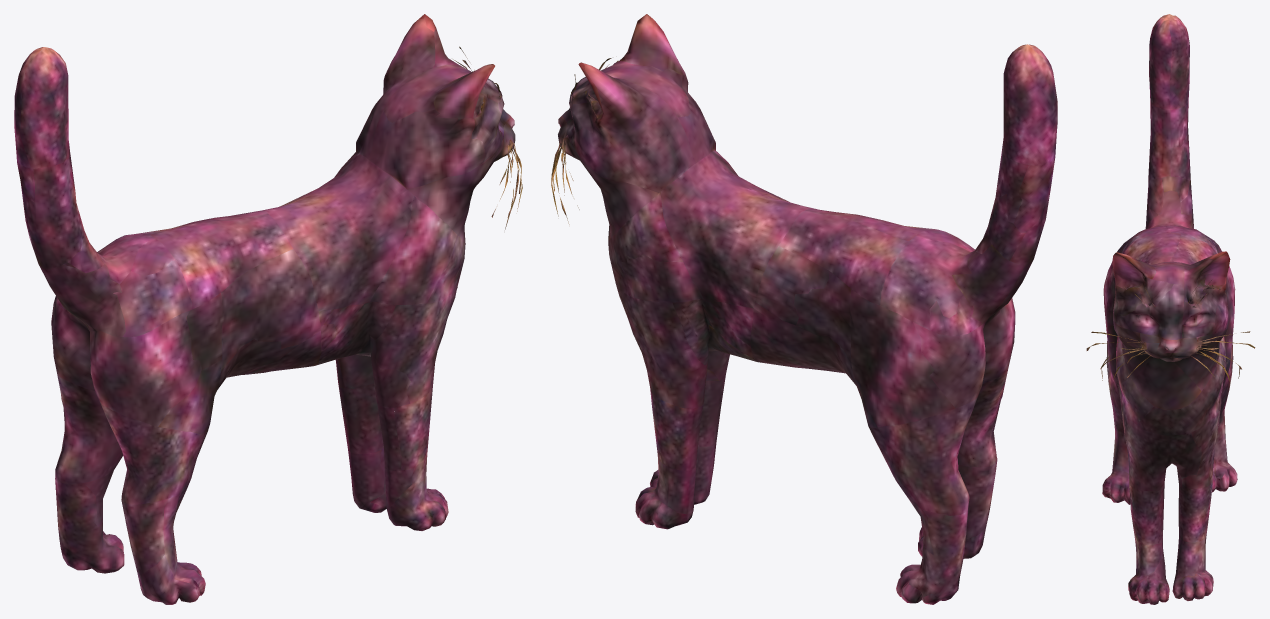
File: QCGENESIS-lo.glb
3 views of the same model, side by side, from view 1: azimuth 30°, elevation 25°; view 2: azimuth 150°, elevation 25°; view 3: azimuth 270°, elevation 25° (orthographic). The views are drawn at different scales.
Parts seen in each view (by area): view 1: tripo_node_d3b328d3-f7c9-4e61-a23d-5fe4dee88dbc; view 2: tripo_node_d3b328d3-f7c9-4e61-a23d-5fe4dee88dbc; view 3: tripo_node_d3b328d3-f7c9-4e61-a23d-5fe4dee88dbc.
Part boxes in pixels (x1,y1,x2,y2): tripo_node_d3b328d3-f7c9-4e61-a23d-5fe4dee88dbc: (14, 14, 522, 604); tripo_node_d3b328d3-f7c9-4e61-a23d-5fe4dee88dbc: (551, 14, 1057, 604); tripo_node_d3b328d3-f7c9-4e61-a23d-5fe4dee88dbc: (1086, 14, 1255, 604).
Bounding box in the file's own units: 0.9363 × 0.9994 × 0.3459.
1 material, 1 textured.
